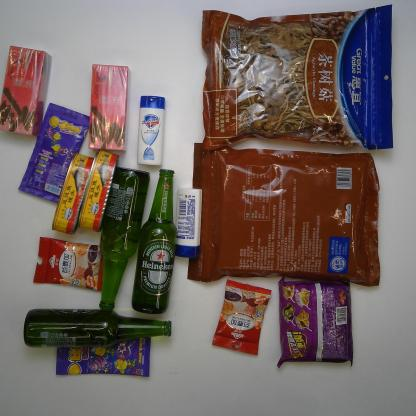Alcohol: (96, 166, 150, 311), (130, 169, 176, 314), (23, 307, 172, 348)
Candy: (17, 102, 91, 204), (55, 335, 151, 381)
Canned Food: (51, 151, 95, 236), (78, 150, 119, 233)
Dried Food: (199, 5, 397, 152), (186, 142, 381, 287)
Instant Drink: (1, 43, 52, 137), (210, 278, 272, 354), (31, 234, 104, 293), (86, 62, 130, 153)
Instant Noodles: (274, 274, 356, 369)
Personal Hygiene: (135, 94, 166, 166), (174, 189, 204, 259)
